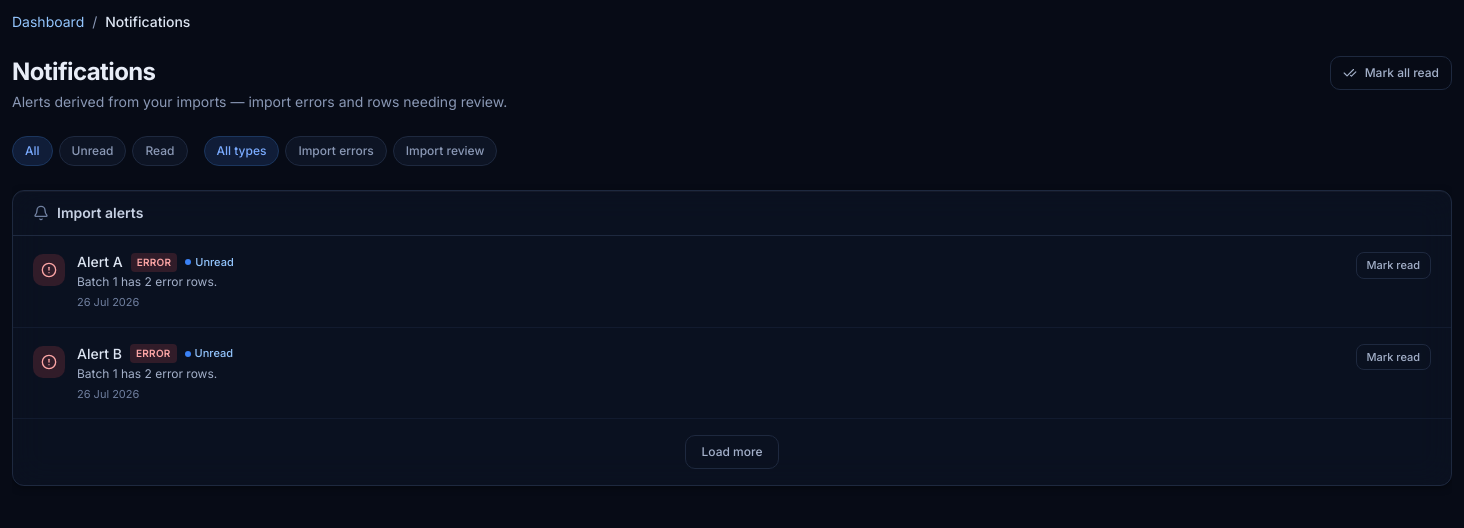
NotificationsPage › loads at most 20 initially and appends more without duplicates via Load more
This screenshot has width=1464, height=528.
Expected: the text "Alert A" is shown, x1=77 y1=252 x2=123 y2=272
Step 1. Click the button "Load more" → point(732, 452), box x1=684 y1=435 x2=780 y2=469
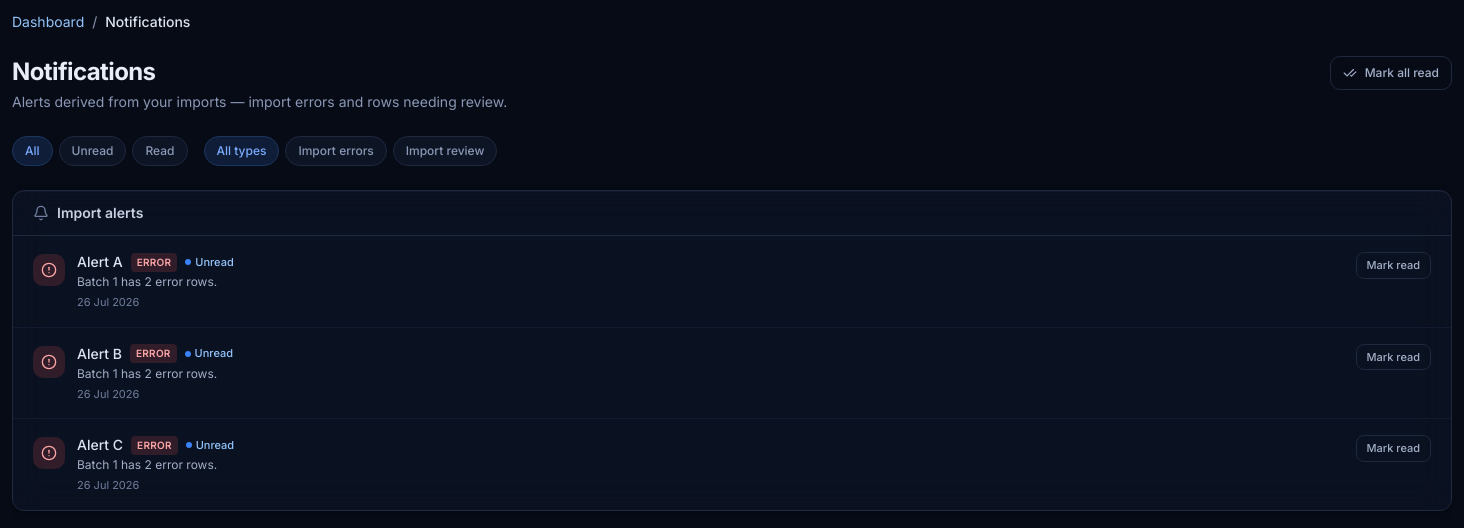
Expected: the text "Alert A" is shown once, x1=77 y1=252 x2=123 y2=272
Expected: the text "Alert C" is shown, x1=77 y1=435 x2=123 y2=455
Expected: the button "Load more" is gone
